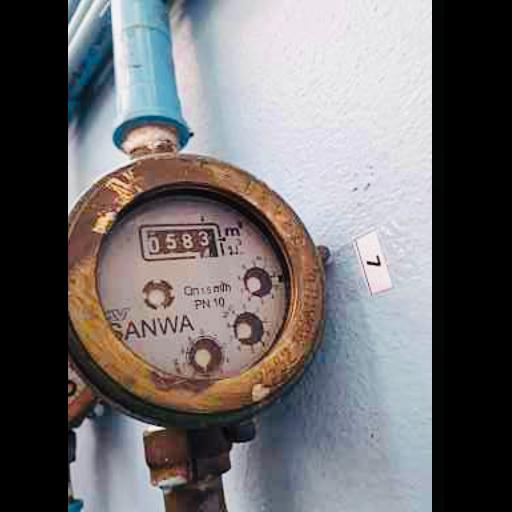0: (147, 230, 164, 256)
3: (195, 226, 219, 261)
5: (162, 229, 181, 255)
8: (178, 228, 199, 255)
border_water_meter_number: (139, 220, 226, 262)
